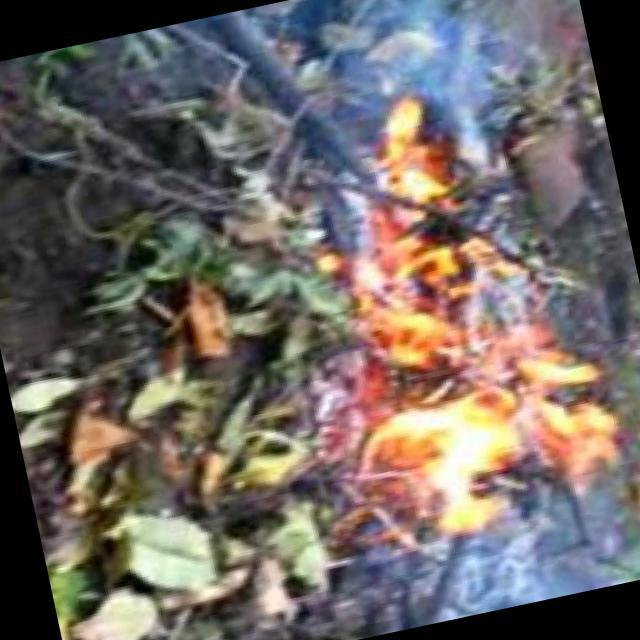Fire: (334, 293, 628, 554), (312, 98, 512, 380)
